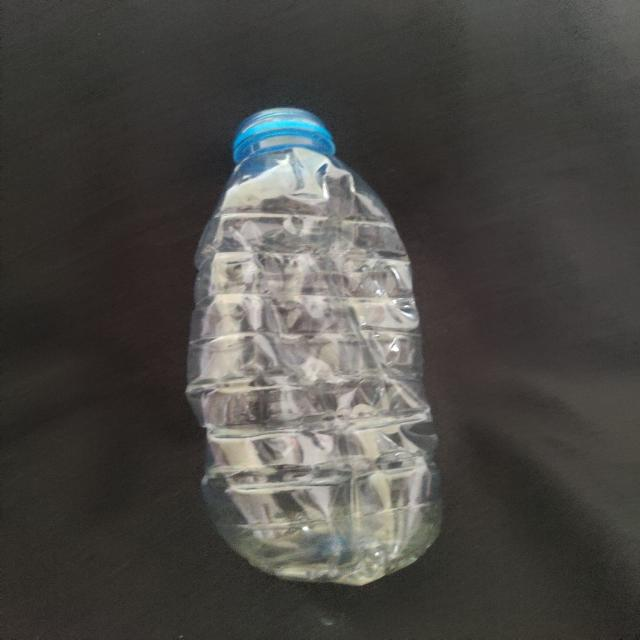plastic: (199, 110, 440, 587)
